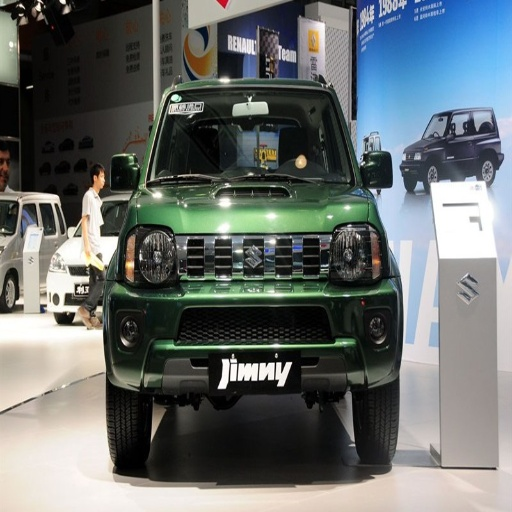front_bumper: (108, 232, 402, 384)
front_right_light: (123, 226, 173, 285)
hood: (133, 182, 370, 233)
